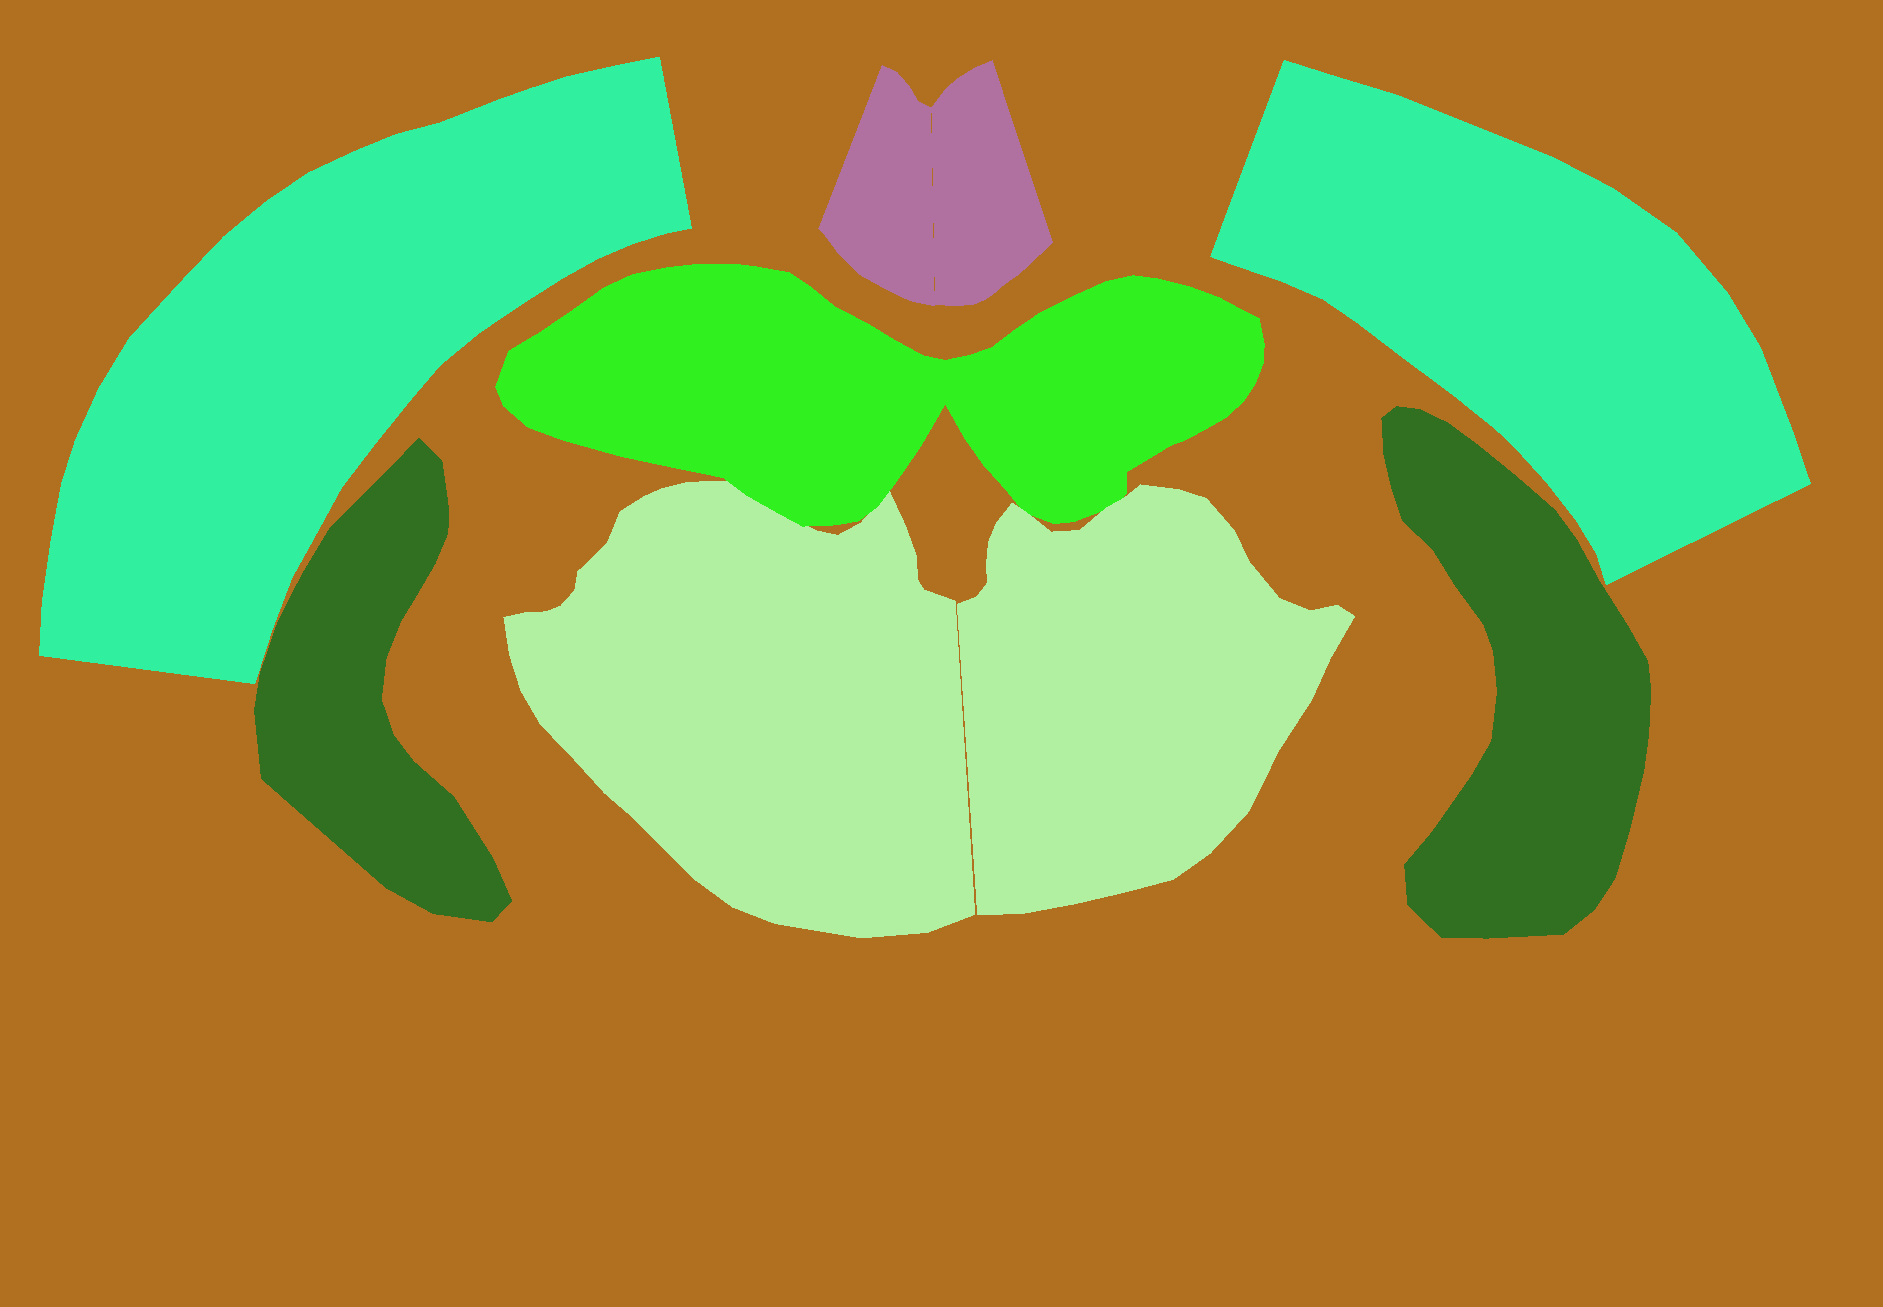Cerebral nuclei: (1381, 407, 1651, 938), (255, 438, 512, 922)
Hippocampal formation: (495, 263, 944, 527), (944, 275, 1263, 524)
Retrosplenial area: (931, 60, 1052, 306), (818, 64, 934, 306)
Somatosensory area: (39, 57, 693, 686), (1210, 60, 1811, 586)
Thalamus: (504, 481, 974, 939), (957, 484, 1356, 915)
